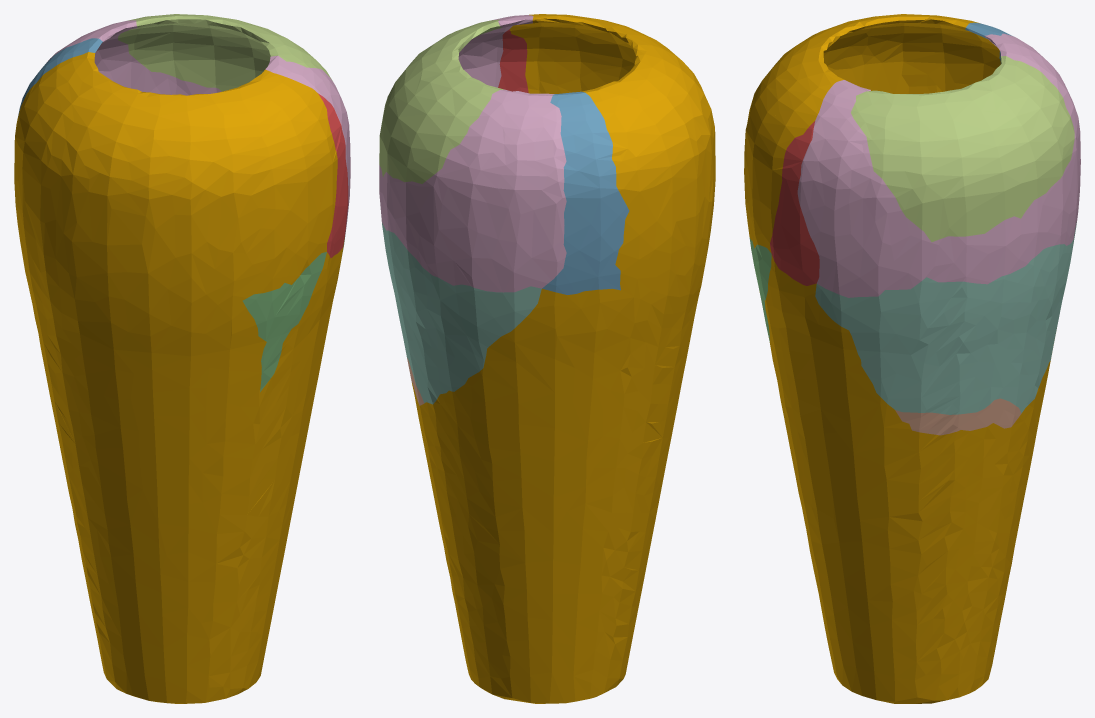
File: fractured_10_8pcs.glb
3 renders of one model, left to right at view 1: azimuth 30°, elevation 25°; view 2: azimuth 150°, elevation 25°; view 3: azimuth 270°, elevation 25°, orthographic.
Visible parts, largest first — view 1: piece_0.obj, piece_5.obj, piece_6.obj, piece_3.obj, piece_1.obj, piece_2.obj; view 2: piece_0.obj, piece_6.obj, piece_4.obj, piece_5.obj, piece_2.obj, piece_1.obj; view 3: piece_0.obj, piece_6.obj, piece_5.obj, piece_4.obj, piece_1.obj, piece_7.obj, piece_3.obj.
Boxes of the visible parts, box(x1,y1,x2,y2) form: piece_0.obj: box(14, 52, 344, 703); piece_5.obj: box(118, 14, 332, 91); piece_6.obj: box(46, 20, 350, 233); piece_3.obj: box(242, 252, 326, 391); piece_1.obj: box(318, 93, 348, 258); piece_2.obj: box(18, 38, 102, 116); piece_0.obj: box(412, 14, 715, 703); piece_6.obj: box(379, 15, 566, 292); piece_4.obj: box(382, 223, 541, 404); piece_5.obj: box(379, 19, 503, 183); piece_2.obj: box(542, 91, 629, 294); piece_1.obj: box(498, 29, 528, 92); piece_0.obj: box(744, 14, 1051, 703); piece_6.obj: box(797, 33, 1080, 297); piece_5.obj: box(851, 56, 1074, 242); piece_4.obj: box(815, 222, 1076, 414); piece_1.obj: box(770, 121, 819, 285); piece_7.obj: box(895, 398, 1021, 435); piece_3.obj: box(749, 238, 771, 341).
Bounding box in the file's own units: 0.4943 × 1 × 0.4946.
